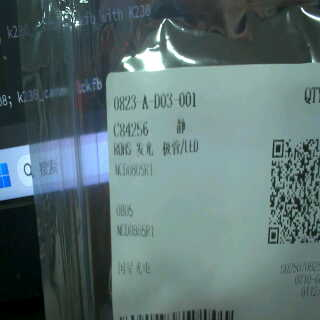LED: (130, 135, 202, 160)
